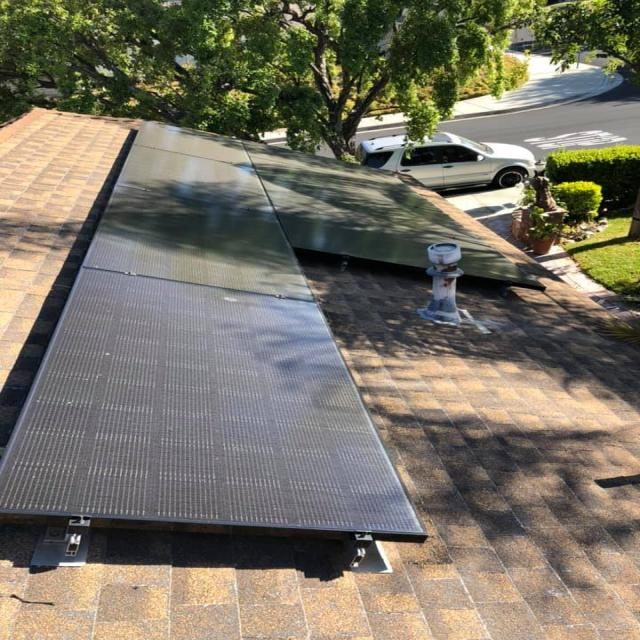dust-solar-panel: (0, 120, 422, 542)
